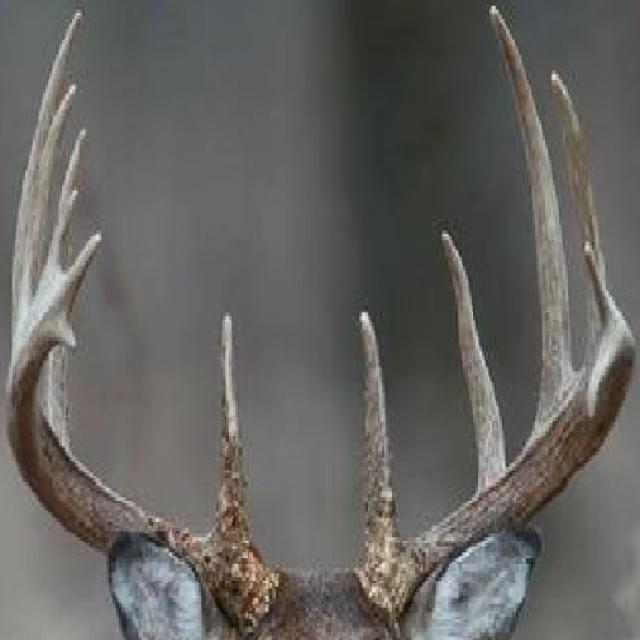E1: (34, 188, 79, 295)
E2: (49, 316, 78, 351)
E3: (584, 240, 625, 331)
L-F: (352, 328, 637, 621)
L-G1: (357, 309, 404, 563)
L-G2: (441, 229, 506, 489)
L-G3: (488, 4, 580, 419)
R-F: (5, 229, 281, 640)
R-G1: (207, 310, 256, 557)
